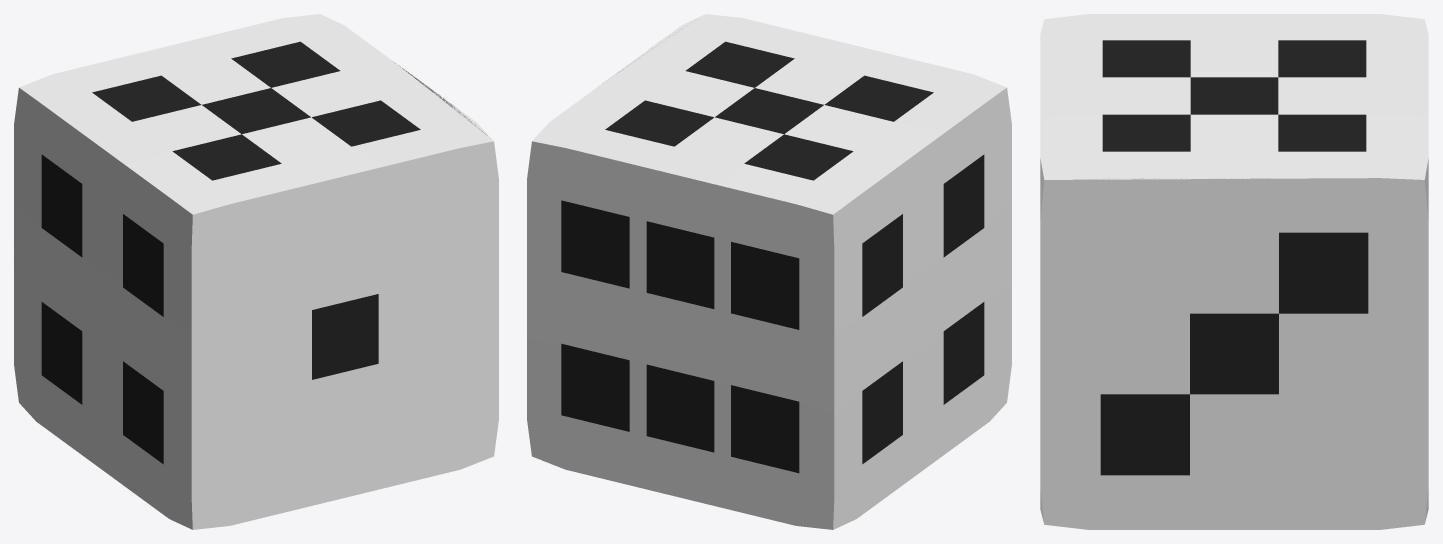
File: dice01.gltf
The picture shows the model from 3 angles, left to right: view 1: azimuth 30°, elevation 25°; view 2: azimuth 150°, elevation 25°; view 3: azimuth 270°, elevation 25°; orthographic projection. The views are drawn at different scales.
Parts seen in each view (by area): view 1: Cube; view 2: Cube; view 3: Cube.
Part boxes in pixels (bbox=[...]): Cube: bbox=[14, 14, 498, 529]; Cube: bbox=[527, 14, 1011, 529]; Cube: bbox=[1040, 14, 1428, 529].
Bounding box in the file's own units: 0.008 × 0.008 × 0.008.
Materials: 1 (1 with a texture image).
